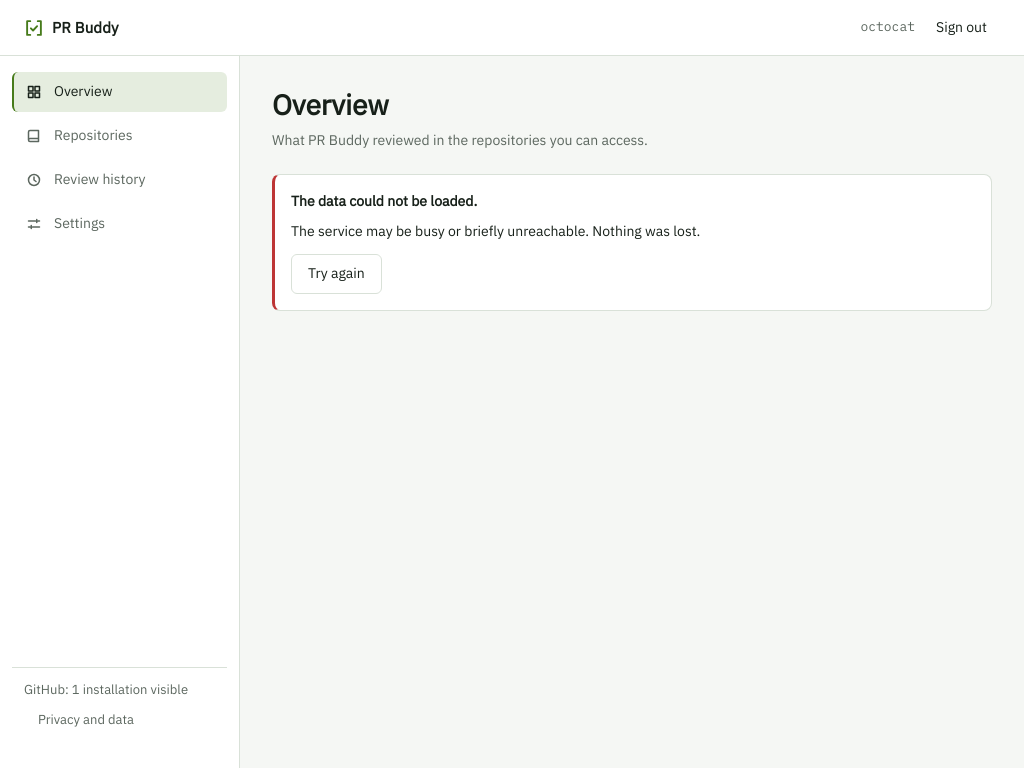
Test case: the overview › loads again when asked after a failure
Expected: the message is shown, x1=272 y1=174 x2=992 y2=311
Click the button "Try again". click: click(336, 274)
box: x1=291 y1=254 x2=382 y2=294
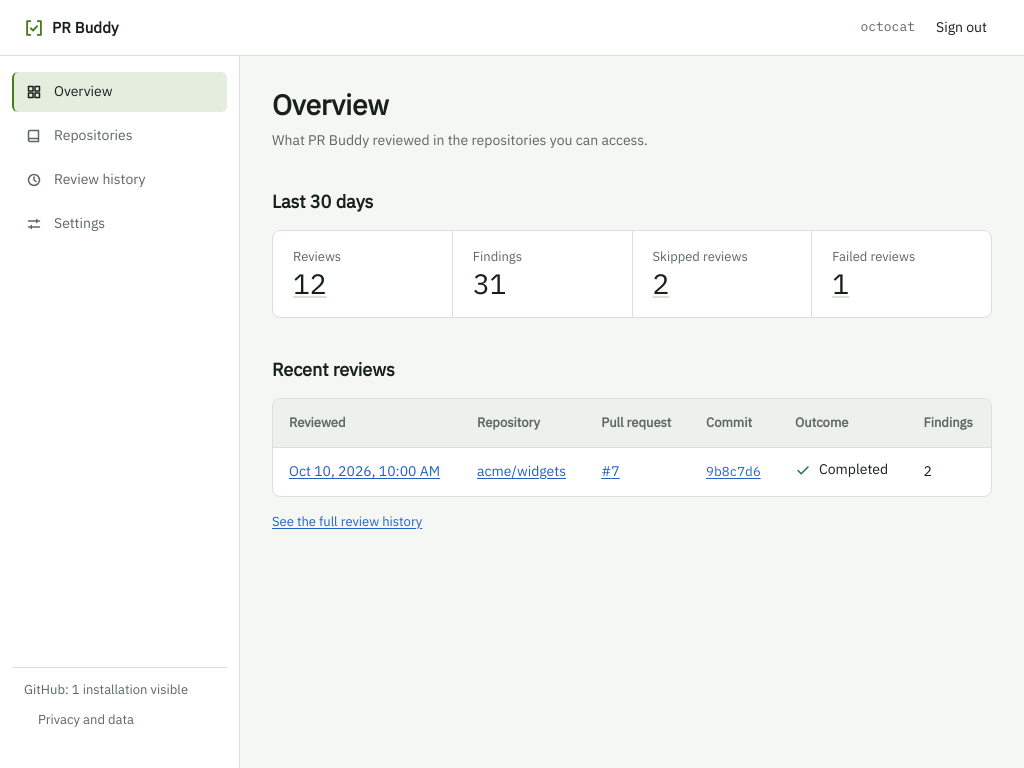
Expected: the heading "Last 30 days" is shown, x1=272 y1=190 x2=373 y2=213
Expected: the message is gone
